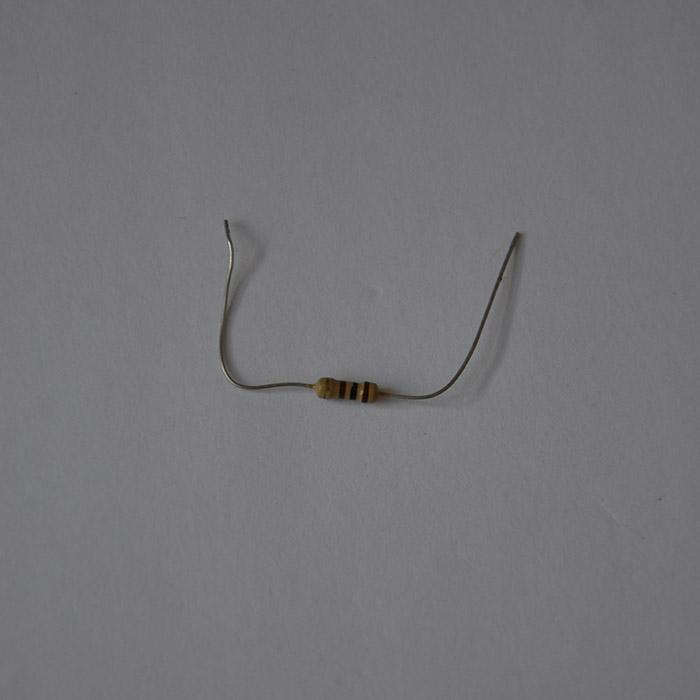resistor: (309, 376, 380, 403)
